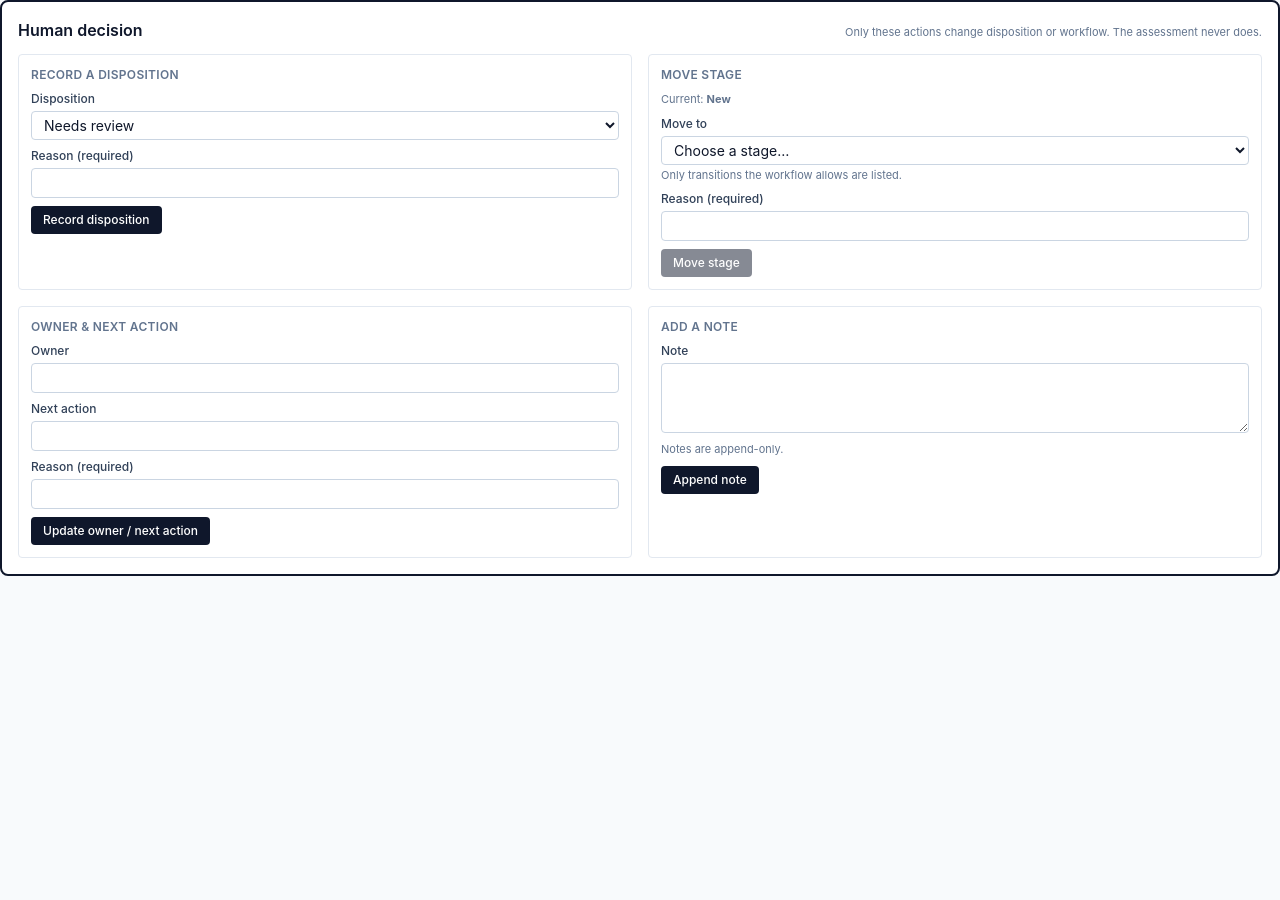
Test: machine / human boundary › surfaces an invalid transition without changing anything on screen
Select "Assessment" in the dropdown labelled "Move to". click: (955, 150)
box: [661,136,1249,164]
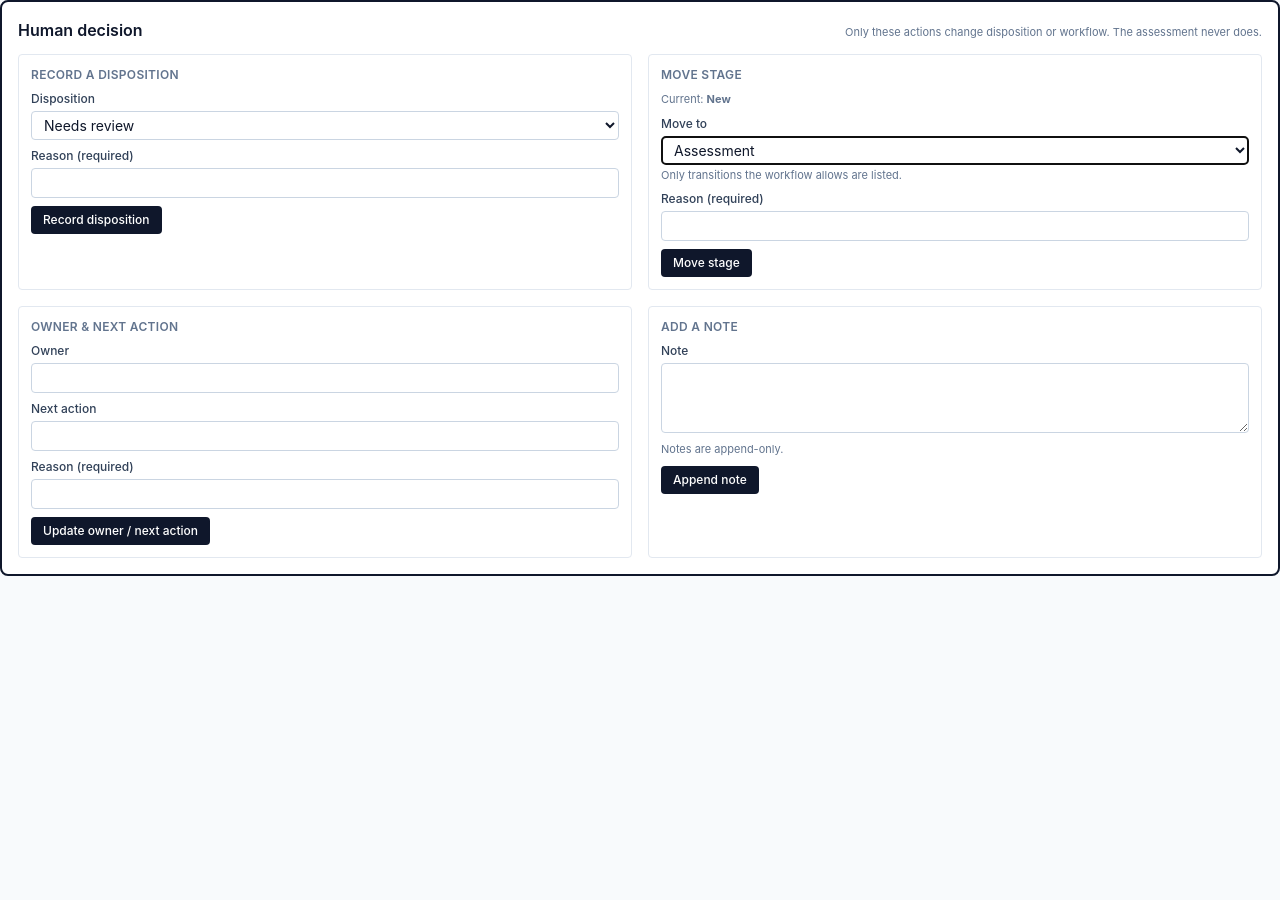
Type "triage" into the field labelled "Reason (required)" below "Move to". click: (955, 226)
box: [661,211,1249,241]
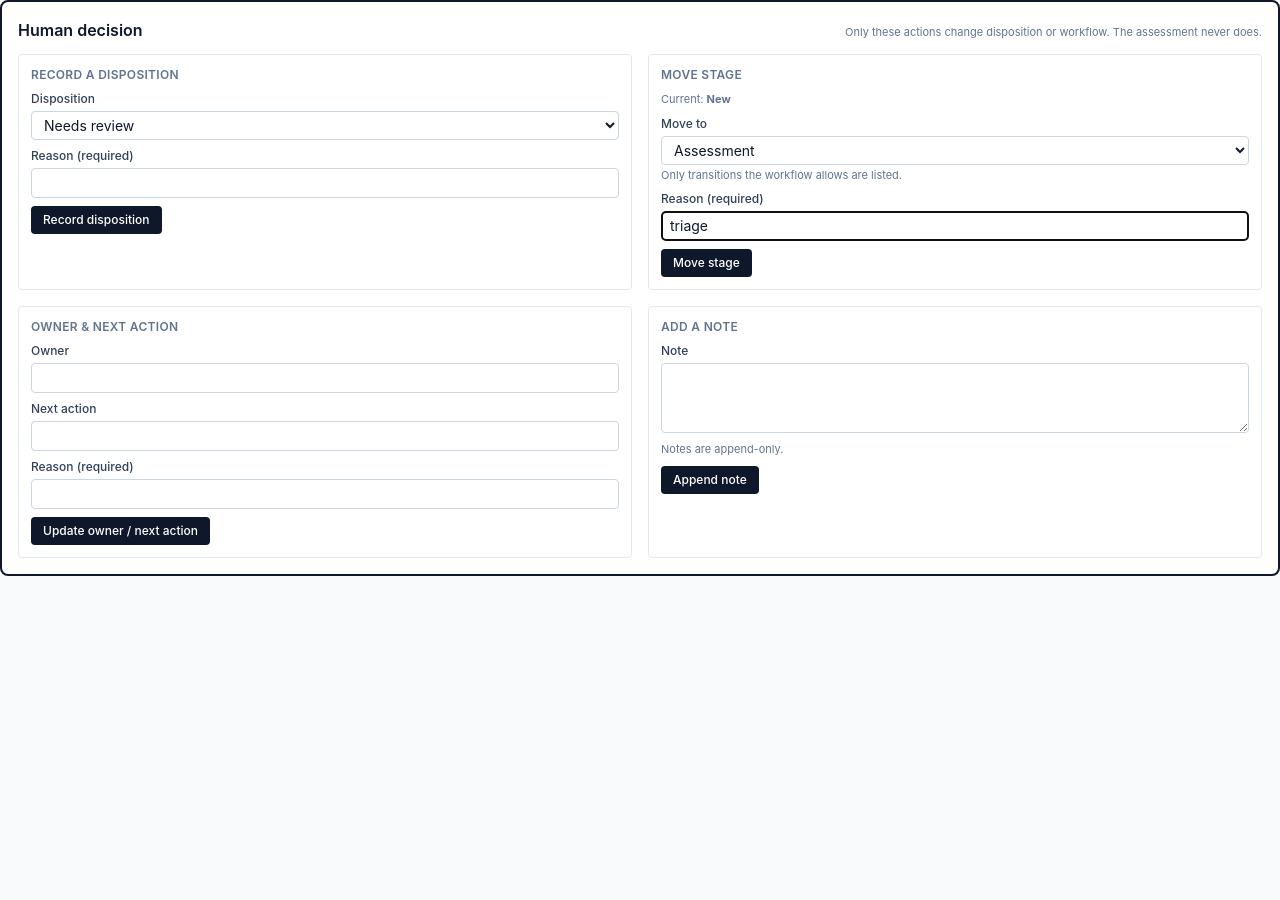
Click the button "Move stage". click: (706, 263)
box: [661,249,752,277]
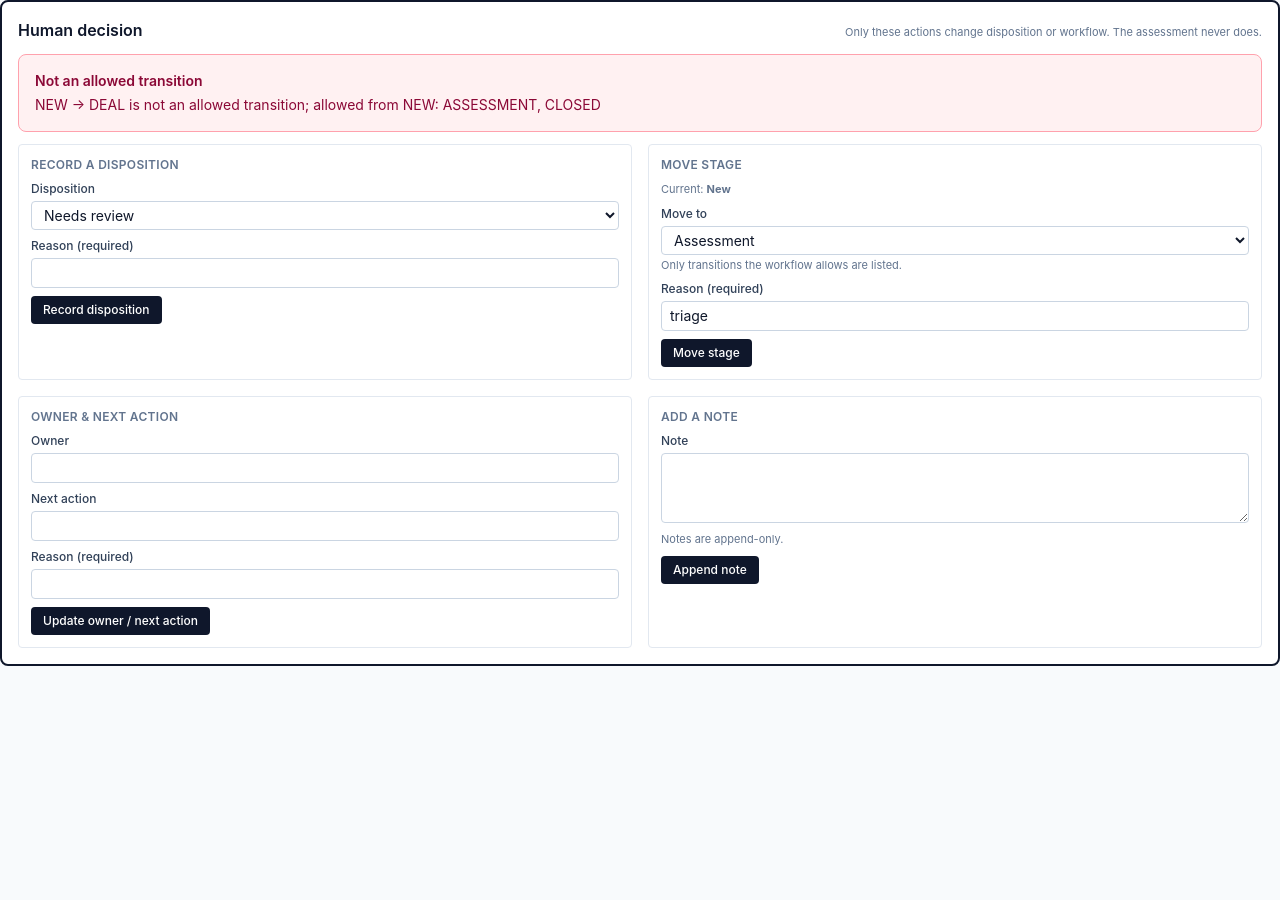
Now the message shows "Not an allowed transition", box [35,72,202,89]
Now the message shows "allowed from NEW", box [35,96,601,113]
